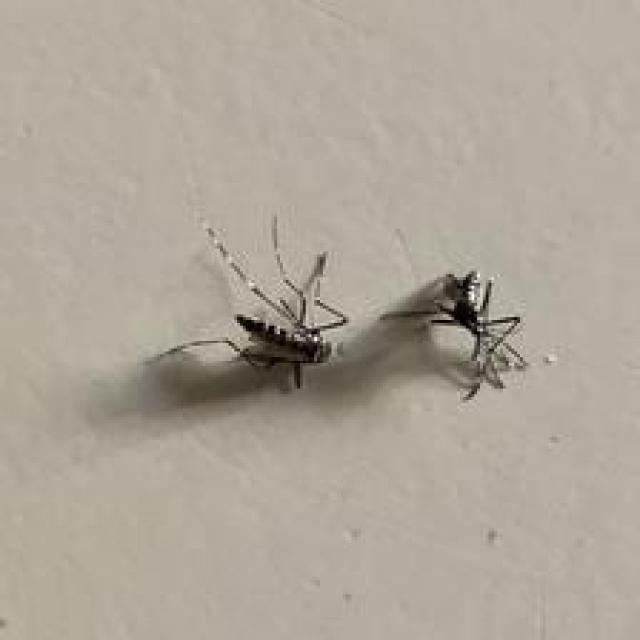Aedes albopictus: (379, 267, 530, 402)
